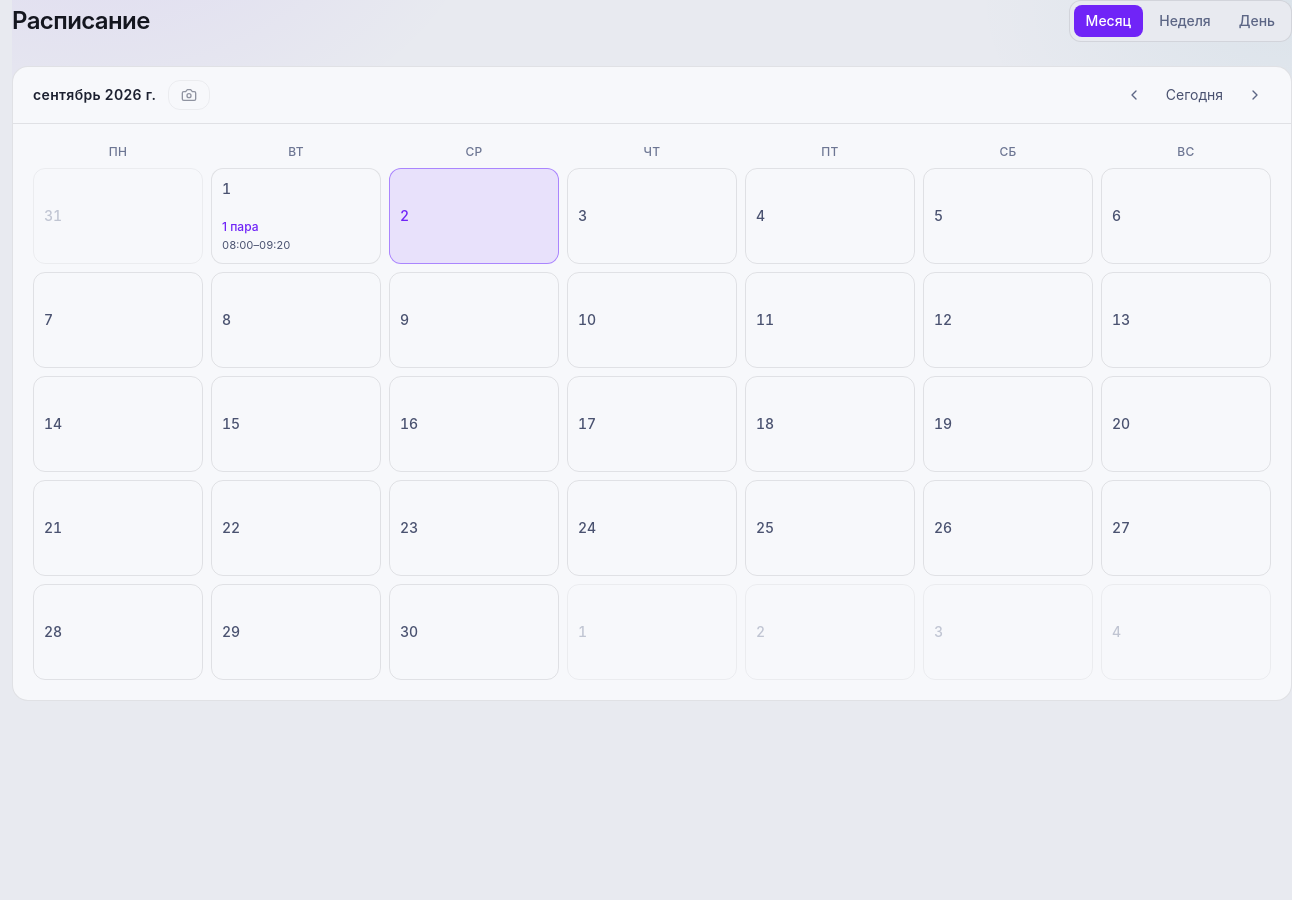
SchedulePage › shows a single-day table in the day view
The image size is (1292, 900).
Click the tab "День".
click(1257, 21)  # box [1227,5,1287,37]
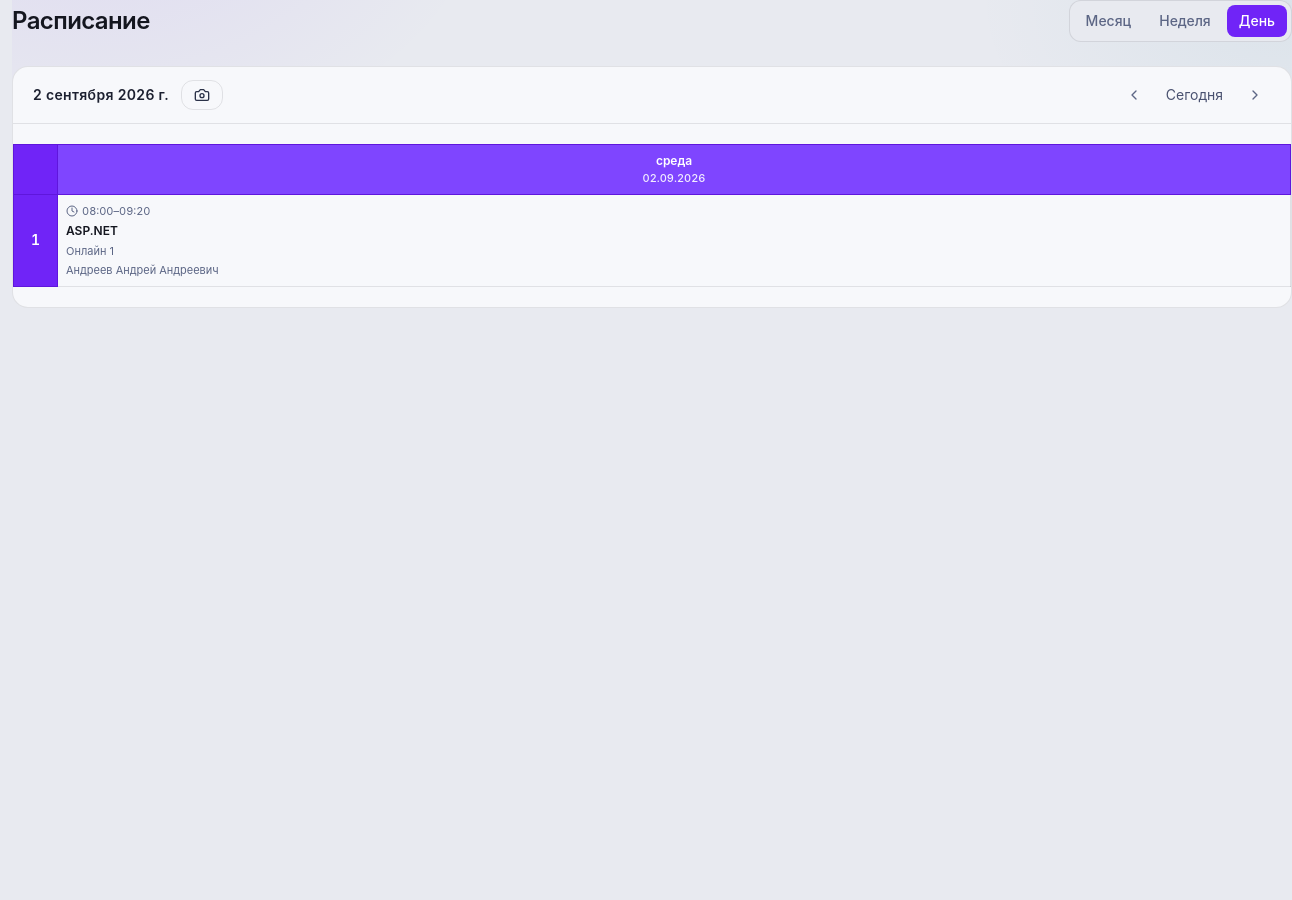
Expected: the text "08:00–09:20" is shown, [66,204,150,218]
Now the column heading "Среда 02.09.2026" is shown, box [58,144,1290,194]
Now the text "ASP.NET" is shown, box [66,223,118,238]
